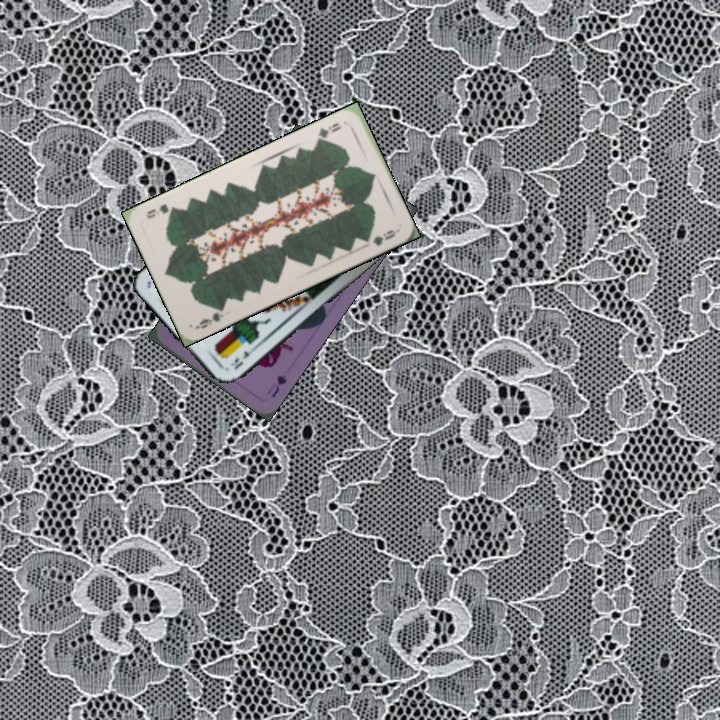EK: (226, 343, 259, 372)
G9: (313, 119, 343, 145), (195, 308, 226, 331)
GU: (263, 370, 289, 401)
